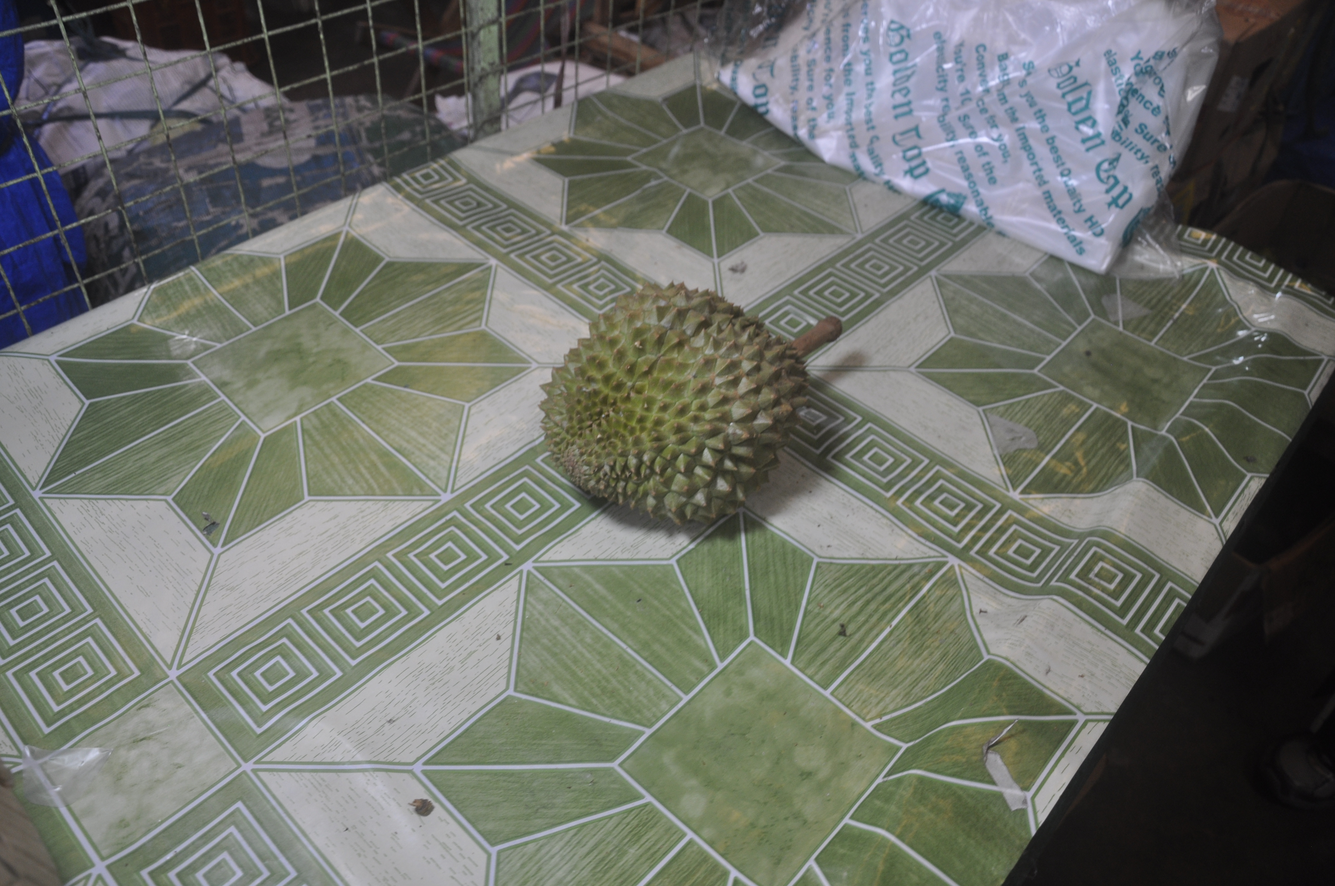mature: (540, 284, 810, 523)
